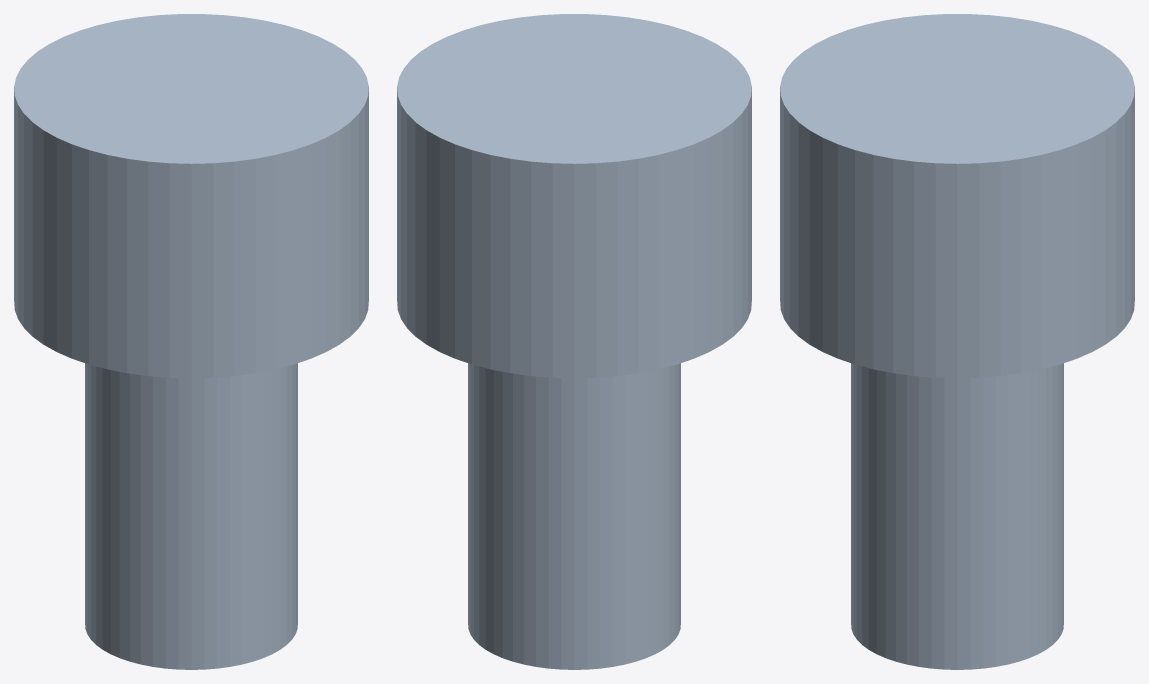
3 views of the same model, side by side, from view 1: azimuth 30°, elevation 25°; view 2: azimuth 150°, elevation 25°; view 3: azimuth 270°, elevation 25° (orthographic).
Parts seen in each view (by area): view 1: p01; view 2: p01; view 3: p01.
Part boxes in pixels (left/top/right/bottom): p01: left=14, top=14, right=368, bottom=669; p01: left=397, top=14, right=751, bottom=669; p01: left=780, top=14, right=1134, bottom=669.
Size of the model in its own units: 0.012 by 0.02 by 0.012.
